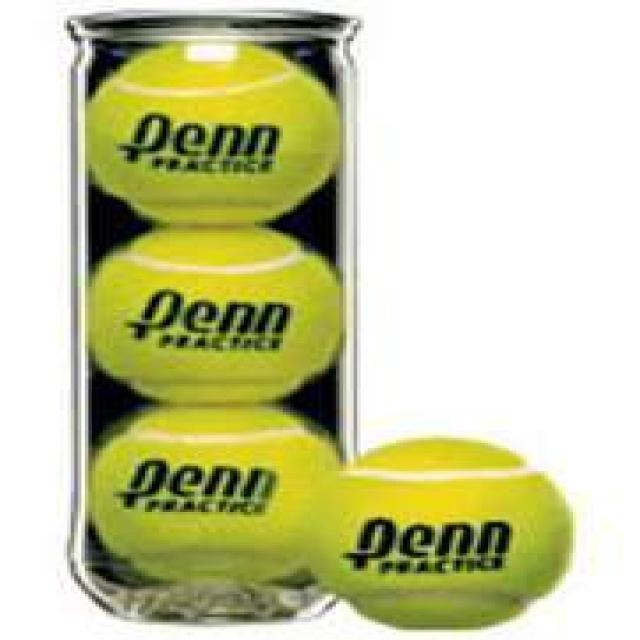Tennis Ball: (315, 438, 576, 635), (88, 225, 343, 412), (88, 44, 343, 225), (88, 407, 343, 584)
